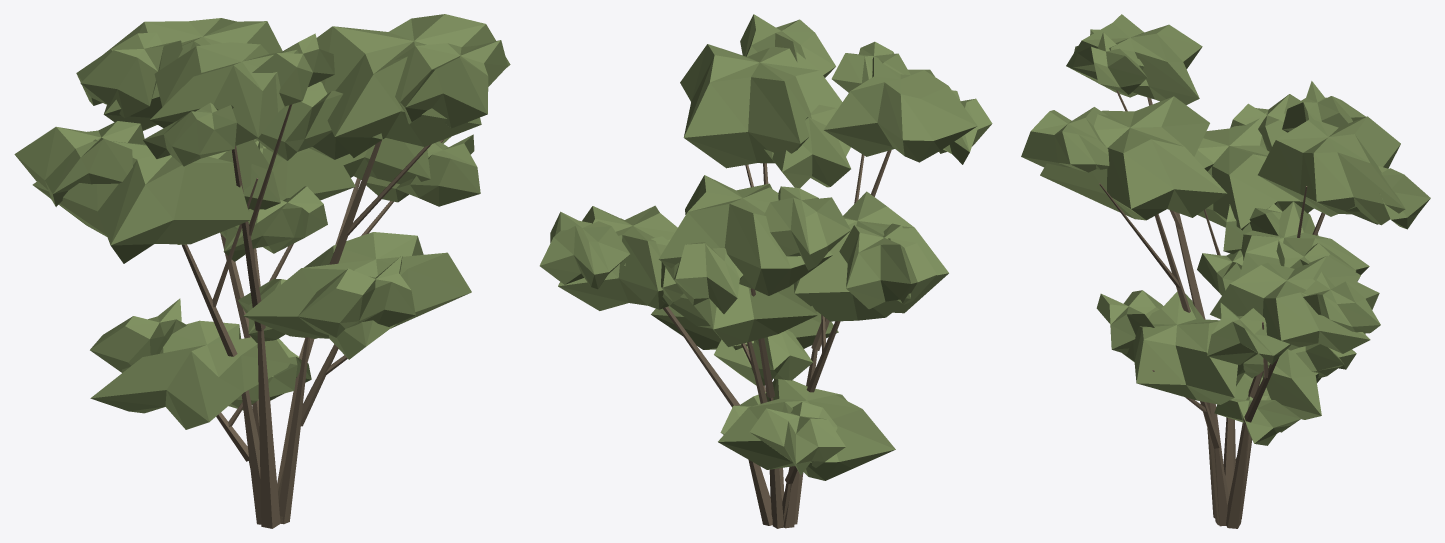
Rendered from sand-plum-tall-high.glb.
3 views of the same model, side by side, from view 1: azimuth 30°, elevation 25°; view 2: azimuth 150°, elevation 25°; view 3: azimuth 270°, elevation 25° (orthographic). The views are drawn at different scales.
Visible parts, largest first — view 1: sand-plum-tall-high / foliage, sand-plum-tall-high / stems; view 2: sand-plum-tall-high / foliage, sand-plum-tall-high / stems; view 3: sand-plum-tall-high / foliage, sand-plum-tall-high / stems.
Boxes of the visible parts, x1=… form: sand-plum-tall-high / foliage: x1=14, y1=14, x2=510, y2=429; sand-plum-tall-high / stems: x1=182, y1=104, x2=444, y2=528; sand-plum-tall-high / foliage: x1=539, y1=14, x2=992, y2=480; sand-plum-tall-high / stems: x1=663, y1=150, x2=891, y2=528; sand-plum-tall-high / foliage: x1=1021, y1=14, x2=1430, y2=445; sand-plum-tall-high / stems: x1=1099, y1=90, x2=1325, y2=528.
Size of the model in its own units: 1.64 by 1.95 by 1.57.
